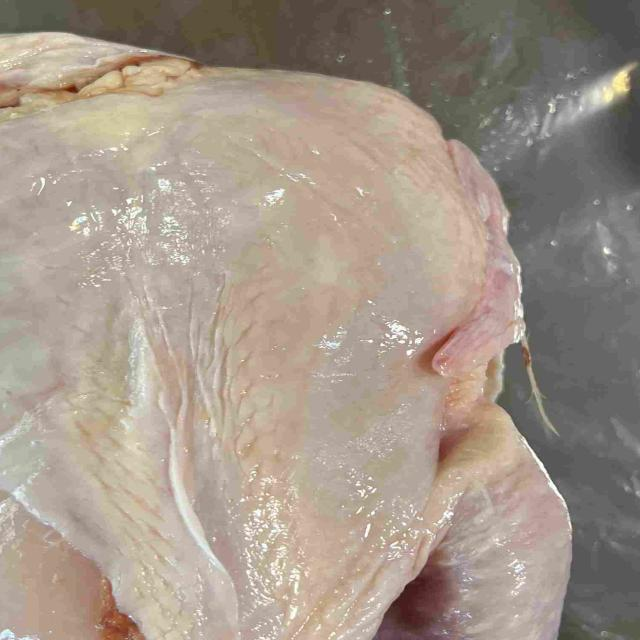breast: (0, 89, 465, 640)
leg: (368, 419, 571, 640)
